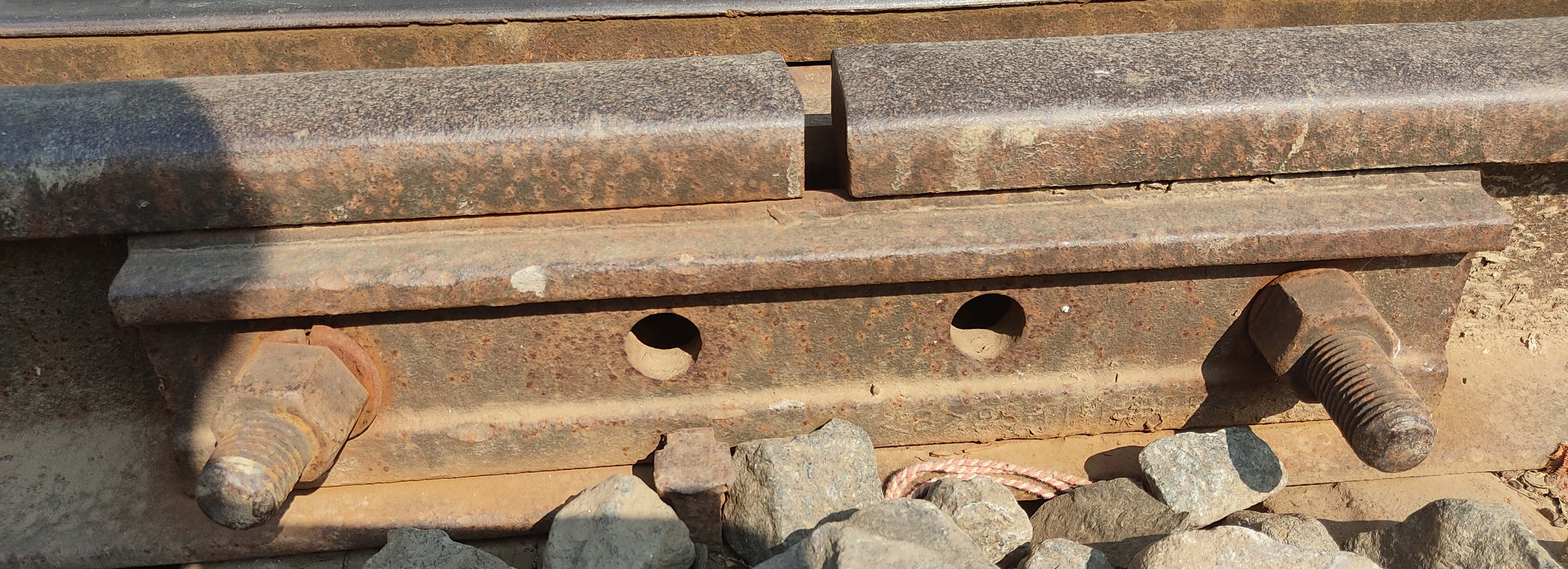duan lie: (754, 20, 896, 234)
